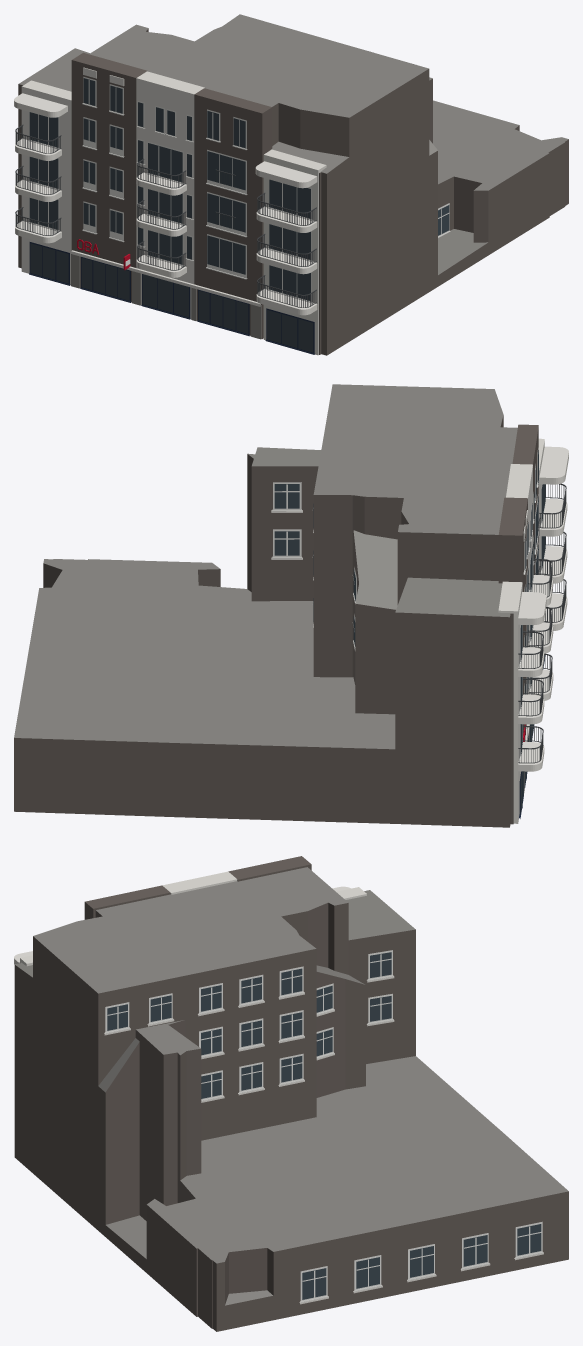
Rendered from oba-spaarndammerbuurt.glb.
3 views of the same model, one above another, from view 1: azimuth 30°, elevation 25°; view 2: azimuth 150°, elevation 25°; view 3: azimuth 270°, elevation 25° (orthographic). The views are drawn at different scales.
Parts seen in each view (by area): view 1: oba-spaarndammerbuurt; view 2: oba-spaarndammerbuurt; view 3: oba-spaarndammerbuurt.
Boxes of the visible parts, <box> form: oba-spaarndammerbuurt: <box>14,14,568,355</box>; oba-spaarndammerbuurt: <box>14,384,568,827</box>; oba-spaarndammerbuurt: <box>14,856,568,1331</box>.
Bounding box in the file's own units: 36.44 × 15.91 × 33.43.
